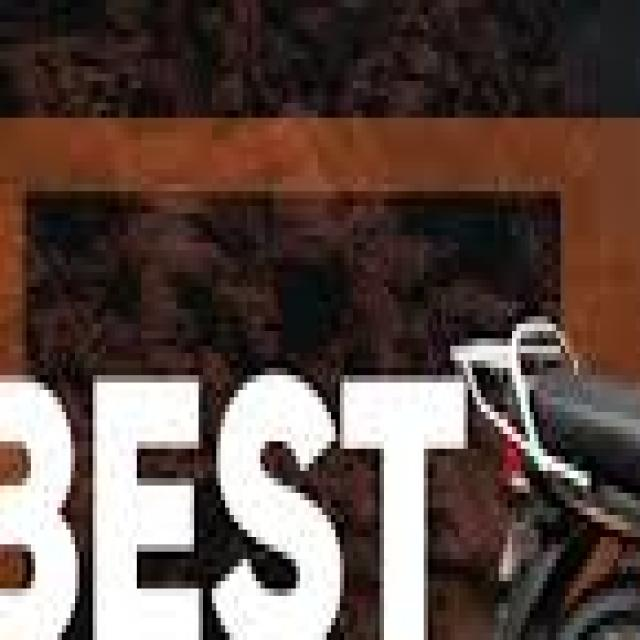bike: (432, 250, 640, 640)
